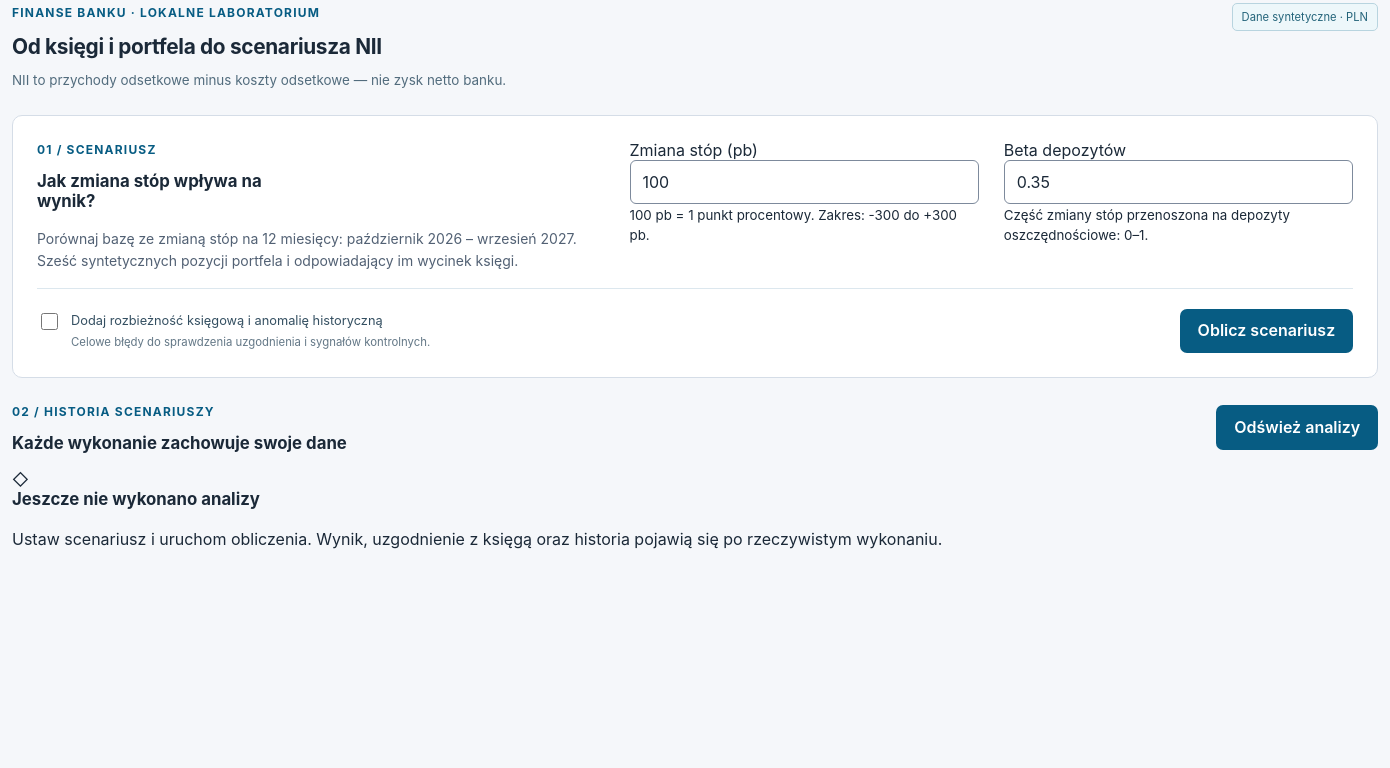
Scenario: invalid scenario values do not issue a write
The image size is (1390, 768).
Expected: the heading "Jeszcze nie wykonano analizy" is shown, [12,489,260,509]
Replace the text in the number field labelled "Zmiana stóp (pb)" with "301" at (804, 182), box [630,160,979,204]
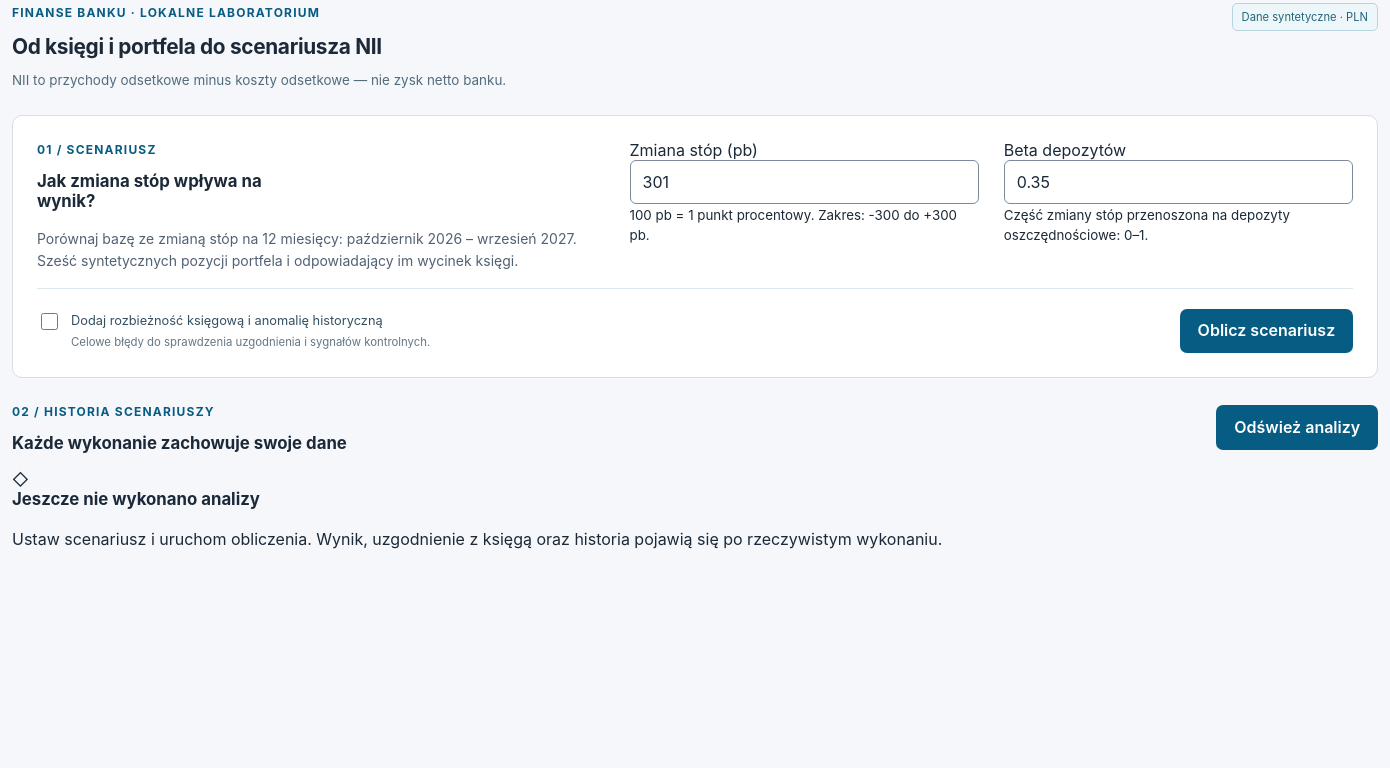
Submit the form named "Parametry scenariusza", box [12,115,1378,378]
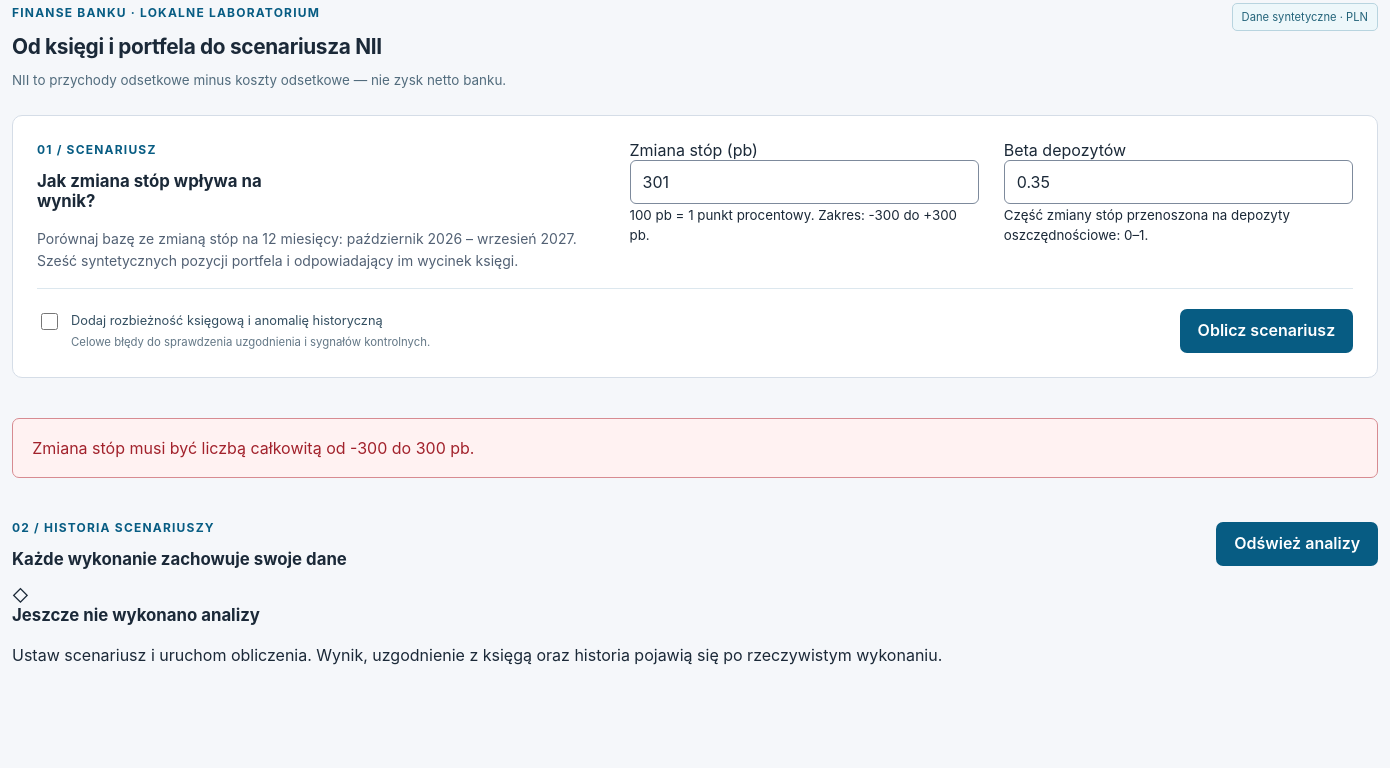
Result: the message shows "całkowitą od -300 do 300" at [32,438,474,458]
